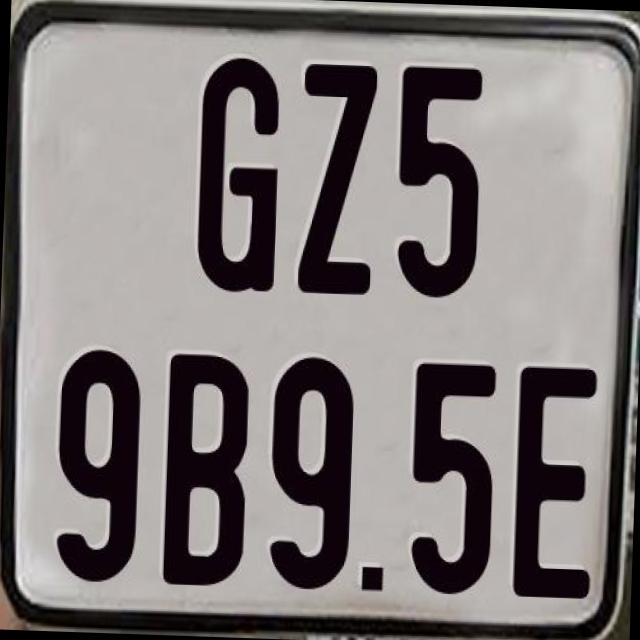5: (408, 357, 502, 592), (394, 60, 488, 294)
9: (264, 352, 356, 596), (53, 345, 148, 581)
B: (157, 350, 245, 588)
E: (508, 360, 594, 595)
G: (195, 55, 282, 301)
Z: (296, 60, 378, 301)
